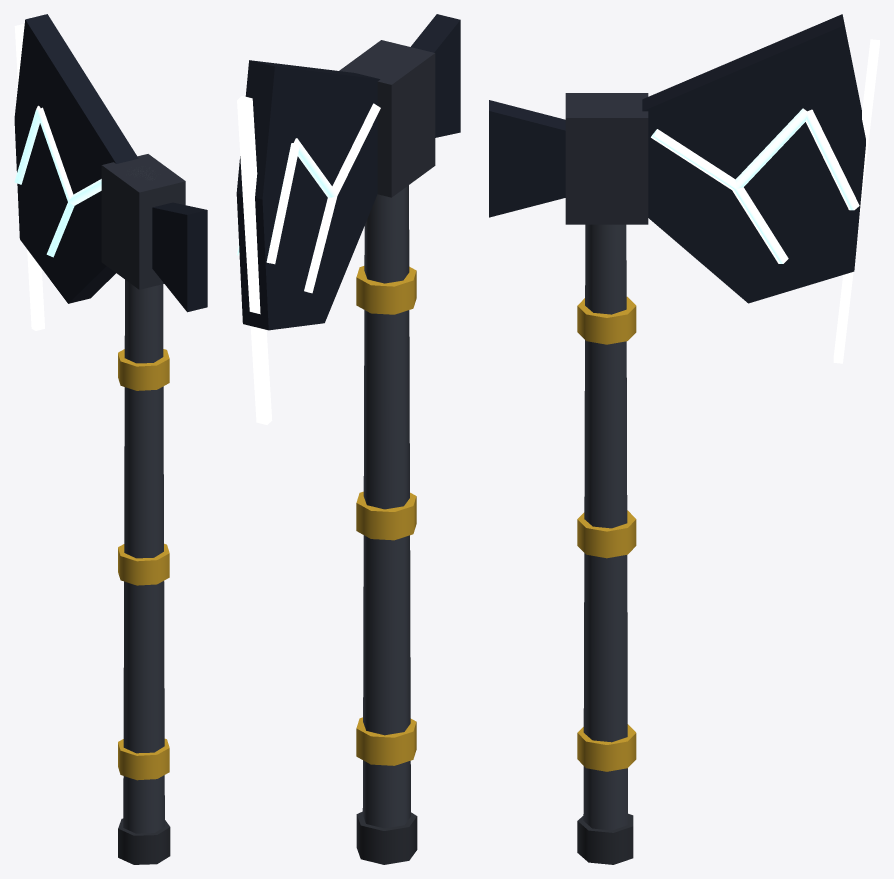
File: tool_thunder.glb
3 renders of one model, left to right at view 1: azimuth 30°, elevation 25°; view 2: azimuth 150°, elevation 25°; view 3: azimuth 270°, elevation 25°, orthographic. The views are drawn at different scales.
Parts seen in each view (by area): view 1: _MeshInstance3D_951, _MeshInstance3D_945, _MeshInstance3D_950, _MeshInstance3D_952, _MeshInstance3D_946, _MeshInstance3D_949, _MeshInstance3D_948, _MeshInstance3D_947, _MeshInstance3D_961, _MeshInstance3D_955, _MeshInstance3D_957, _MeshInstance3D_959 (+1 smaller); view 2: _MeshInstance3D_951, _MeshInstance3D_945, _MeshInstance3D_950, _MeshInstance3D_961, _MeshInstance3D_952, _MeshInstance3D_946, _MeshInstance3D_949, _MeshInstance3D_948, _MeshInstance3D_947, _MeshInstance3D_957, _MeshInstance3D_959, _MeshInstance3D_953 (+1 smaller); view 3: _MeshInstance3D_951, _MeshInstance3D_945, _MeshInstance3D_950, _MeshInstance3D_952, _MeshInstance3D_961, _MeshInstance3D_946, _MeshInstance3D_949, _MeshInstance3D_948, _MeshInstance3D_947, _MeshInstance3D_958, _MeshInstance3D_956, _MeshInstance3D_954 (+1 smaller).
Part boxes in pixels (bbox=[...]): _MeshInstance3D_951: bbox=[14, 14, 138, 303]; _MeshInstance3D_945: bbox=[123, 167, 164, 833]; _MeshInstance3D_950: bbox=[101, 154, 185, 289]; _MeshInstance3D_952: bbox=[152, 202, 207, 312]; _MeshInstance3D_946: bbox=[118, 818, 170, 864]; _MeshInstance3D_949: bbox=[118, 349, 169, 390]; _MeshInstance3D_948: bbox=[118, 543, 169, 585]; _MeshInstance3D_947: bbox=[118, 738, 169, 780]; _MeshInstance3D_961: bbox=[14, 24, 44, 330]; _MeshInstance3D_955: bbox=[36, 107, 73, 201]; _MeshInstance3D_957: bbox=[14, 105, 40, 184]; _MeshInstance3D_959: bbox=[46, 202, 74, 257]; _MeshInstance3D_951: bbox=[236, 60, 380, 330]; _MeshInstance3D_945: bbox=[362, 185, 410, 828]; _MeshInstance3D_950: bbox=[339, 40, 435, 197]; _MeshInstance3D_961: bbox=[237, 96, 272, 424]; _MeshInstance3D_952: bbox=[411, 14, 460, 137]; _MeshInstance3D_946: bbox=[356, 811, 417, 864]; _MeshInstance3D_949: bbox=[356, 266, 416, 314]; _MeshInstance3D_948: bbox=[356, 491, 416, 540]; _MeshInstance3D_947: bbox=[356, 717, 416, 765]; _MeshInstance3D_957: bbox=[266, 143, 299, 264]; _MeshInstance3D_959: bbox=[304, 196, 337, 293]; _MeshInstance3D_953: bbox=[332, 103, 380, 195]; _MeshInstance3D_951: bbox=[642, 14, 865, 303]; _MeshInstance3D_945: bbox=[583, 224, 627, 830]; _MeshInstance3D_950: bbox=[565, 93, 648, 224]; _MeshInstance3D_952: bbox=[489, 100, 565, 217]; _MeshInstance3D_961: bbox=[833, 39, 879, 363]; _MeshInstance3D_946: bbox=[577, 813, 633, 864]; _MeshInstance3D_949: bbox=[577, 296, 636, 344]; _MeshInstance3D_948: bbox=[577, 510, 636, 558]; _MeshInstance3D_947: bbox=[577, 724, 636, 771]; _MeshInstance3D_958: bbox=[805, 109, 859, 210]; _MeshInstance3D_956: bbox=[735, 108, 807, 188]; _MeshInstance3D_954: bbox=[651, 129, 736, 190].
Bounding box in the file's own units: 0.05 × 0.78 × 0.3317.
